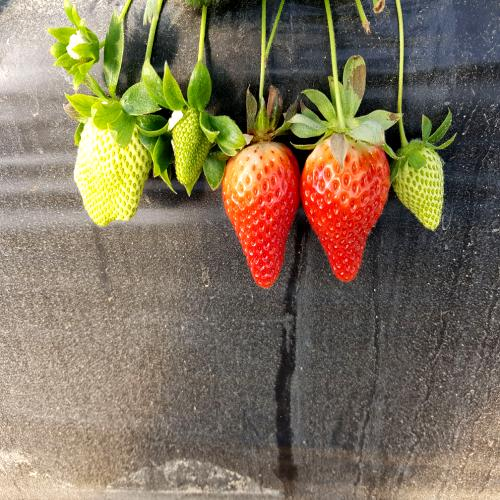ripe: (307, 130, 390, 279), (224, 127, 298, 286)
